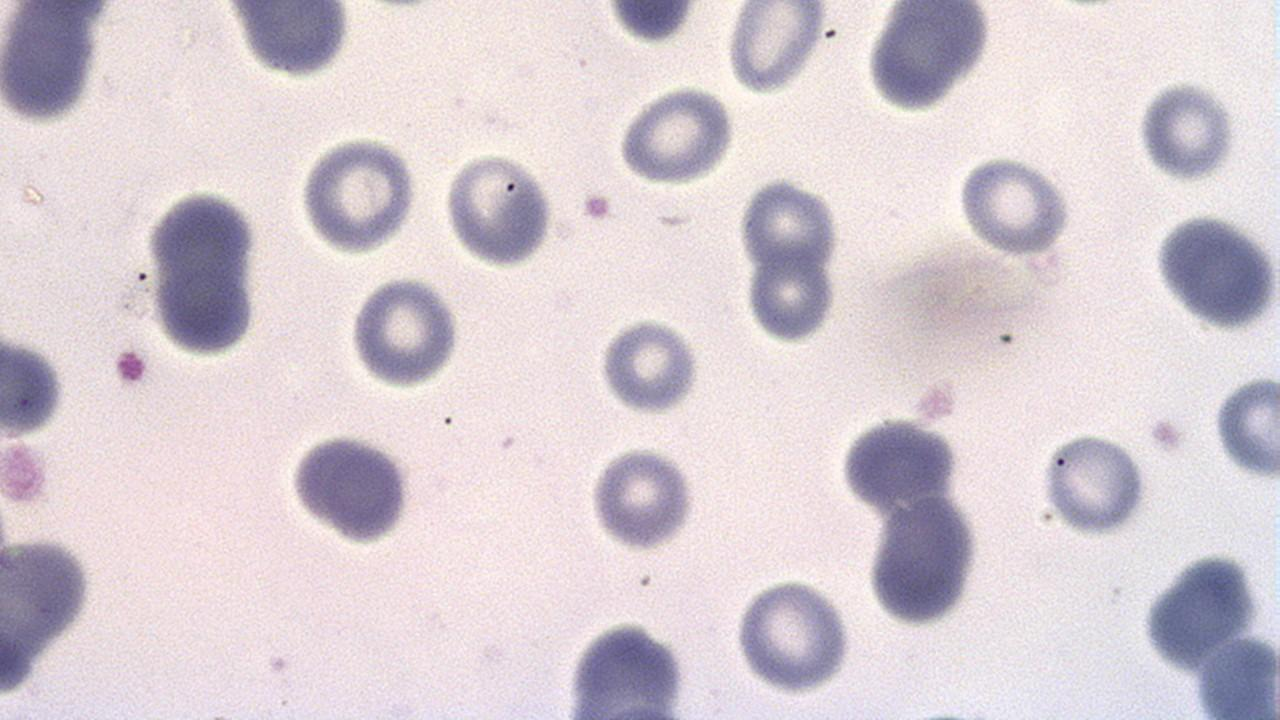Platelets: (284, 428, 414, 548), (954, 155, 1078, 258), (1132, 74, 1242, 187), (587, 447, 699, 554), (594, 318, 702, 417), (227, 3, 353, 83), (1209, 369, 1279, 481), (0, 324, 66, 441), (605, 1, 696, 46), (111, 346, 150, 390), (579, 190, 613, 222)
RBC: (297, 130, 420, 256), (732, 574, 854, 697), (440, 148, 556, 268), (350, 269, 464, 391), (952, 151, 1075, 257), (614, 82, 738, 186), (1038, 428, 1150, 540), (588, 443, 697, 554), (595, 314, 704, 418), (736, 177, 841, 274), (722, 2, 828, 95), (743, 247, 839, 346), (1212, 370, 1280, 483)
WBC: (0, 298, 108, 720), (143, 182, 267, 358), (1135, 542, 1275, 686), (1150, 203, 1280, 335), (863, 494, 988, 628), (286, 424, 416, 548), (860, 1, 996, 114), (558, 618, 701, 718), (834, 409, 961, 520), (0, 1, 111, 127), (1038, 426, 1154, 540), (224, 7, 355, 78), (1, 318, 71, 444), (1211, 366, 1279, 481), (598, 1, 702, 40)
